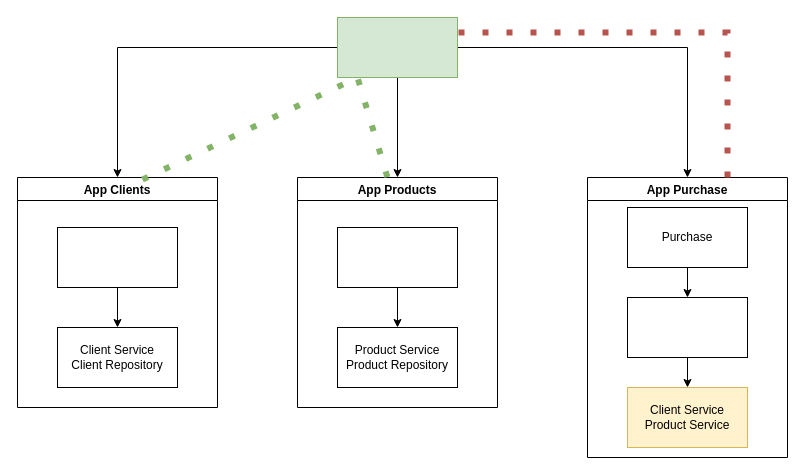
Image size: 805x475. Some labels were removed from this diagram. The centre of each missing label's shape, as x and y in pixels:
"Entity Client" goes at (x=117, y=257).
"GatewayServer" goes at (x=397, y=47).
"Product" goes at (x=397, y=257).
"Purchase Service Purchase Repository" goes at (x=687, y=327).
